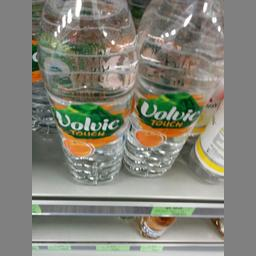water: (36, 0, 138, 185), (124, 0, 222, 175)
